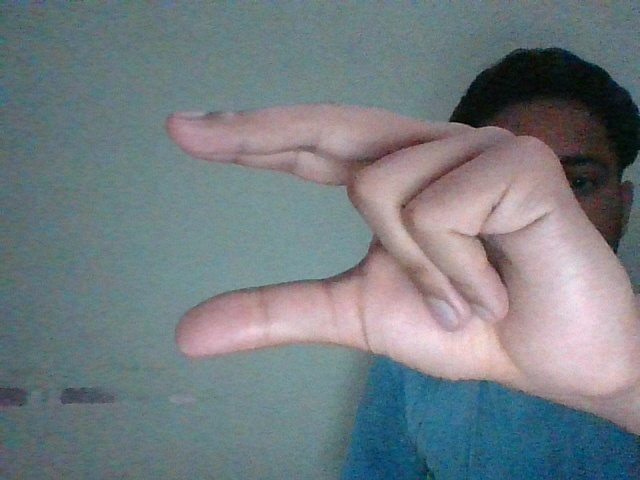no: (165, 102, 615, 378)
